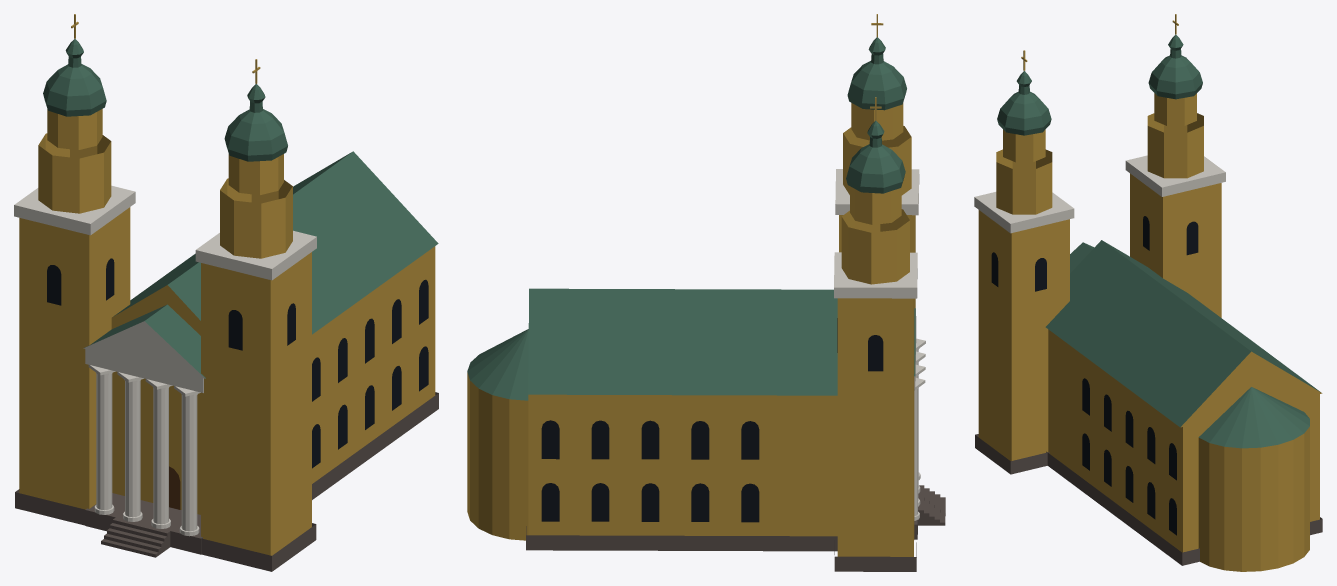
File: cathedral-lo.glb
The picture shows the model from 3 angles, left to right: view 1: azimuth 30°, elevation 25°; view 2: azimuth 150°, elevation 25°; view 3: azimuth 270°, elevation 25°; orthographic projection. The views are drawn at different scales.
Visible parts, largest first — view 1: lm-cathedral; view 2: lm-cathedral; view 3: lm-cathedral.
Part boxes in pixels (<box>): lm-cathedral: <box>14,14,438,571</box>; lm-cathedral: <box>467,14,945,571</box>; lm-cathedral: <box>974,14,1322,571</box>.
Bounding box in the file's own units: 39.64 × 42.4 × 33.21.
